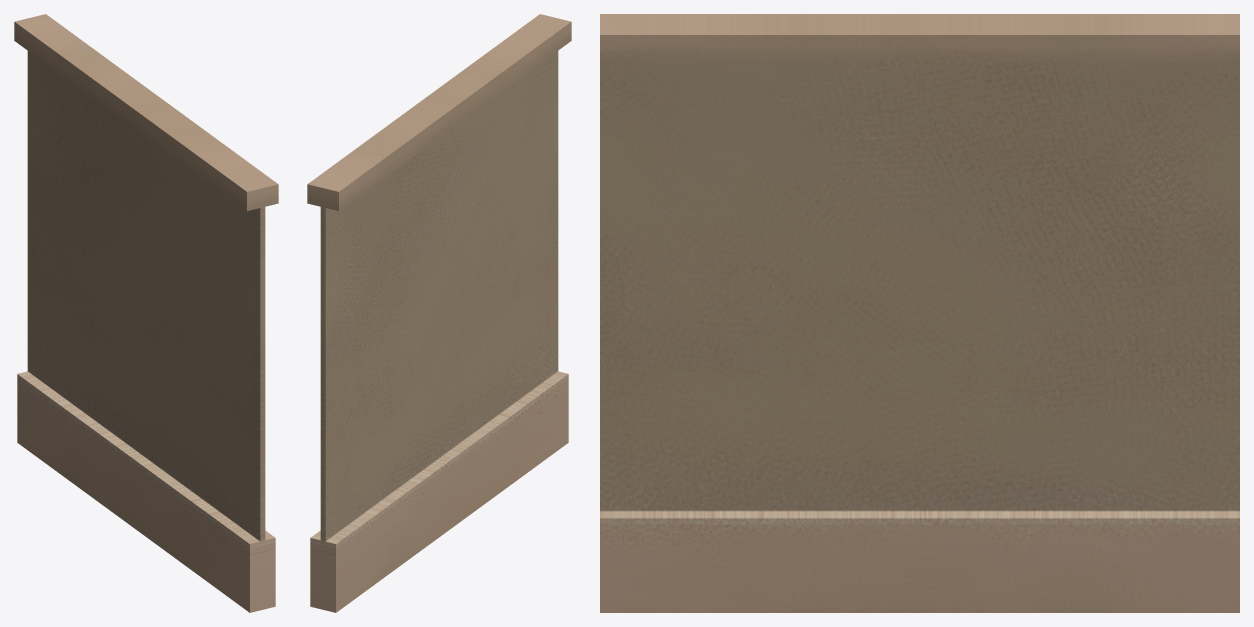
File: wall.obj
The picture shows the model from 3 angles, left to right: view 1: azimuth 30°, elevation 25°; view 2: azimuth 150°, elevation 25°; view 3: azimuth 270°, elevation 25°; orthographic projection. The views are drawn at different scales.
Parts seen in each view (by area): view 1: Wall; view 2: Wall; view 3: Wall.
Part boxes in pixels (left/top/right/bottom): Wall: left=14, top=14, right=278, bottom=612; Wall: left=307, top=14, right=571, bottom=612; Wall: left=600, top=14, right=1239, bottom=612.
Bounding box in the file's own units: 0.078 × 1 × 1.
